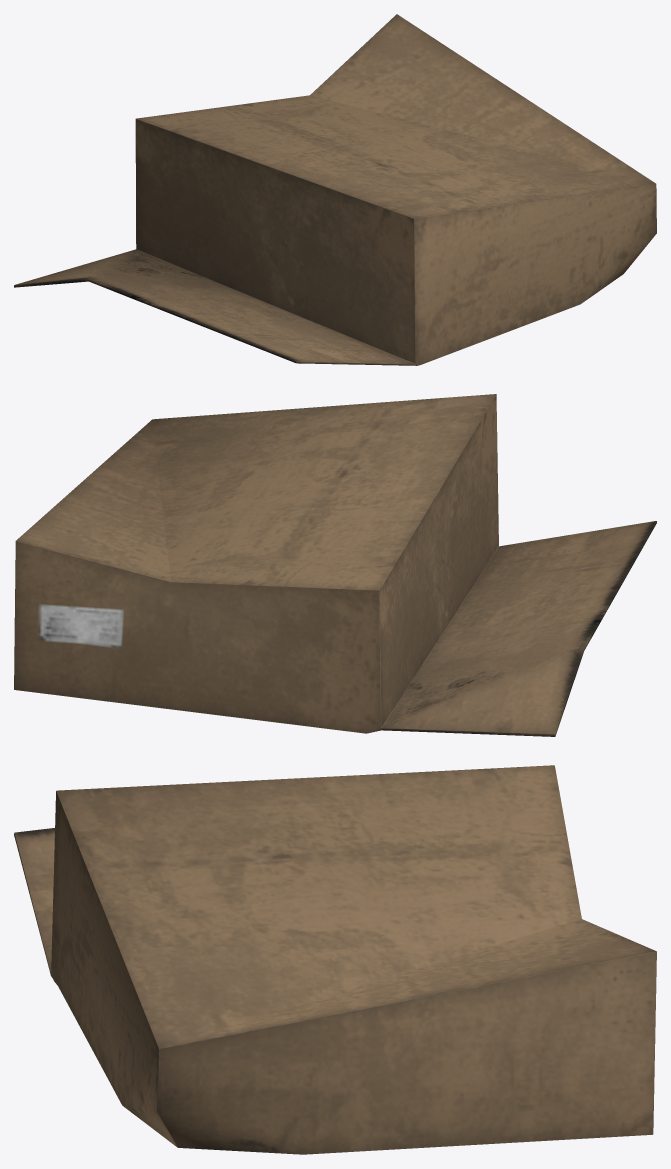
File: Prop_GarbageHeap_Box_2.fbx
3 views of the same model, one above another, from view 1: azimuth 30°, elevation 25°; view 2: azimuth 150°, elevation 25°; view 3: azimuth 270°, elevation 25° (orthographic). The views are drawn at different scales.
Visible parts, largest first — view 1: Prop_GarbageHeap_Box_2; view 2: Prop_GarbageHeap_Box_2; view 3: Prop_GarbageHeap_Box_2.
Part boxes in pixels (<box>): Prop_GarbageHeap_Box_2: <box>14,14,656,365</box>; Prop_GarbageHeap_Box_2: <box>14,394,656,736</box>; Prop_GarbageHeap_Box_2: <box>14,765,656,1154</box>.
Bounding box in the file's own units: 28.66 × 8.63 × 24.36.
